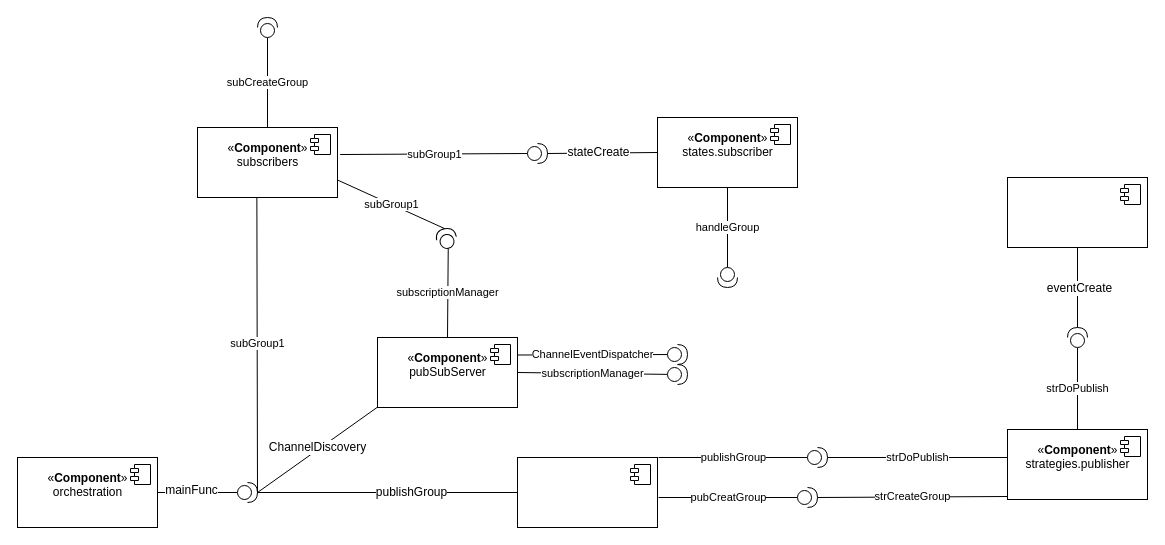
Some shapes in this 1165 by 545 pixel diagram are drawn without their labels. Here are the shapes that lost their labels. From the top down, the centre of each, then its label:
At [1077,212]: "« Component » events".
At [587,492]: "« Component » publishers".
